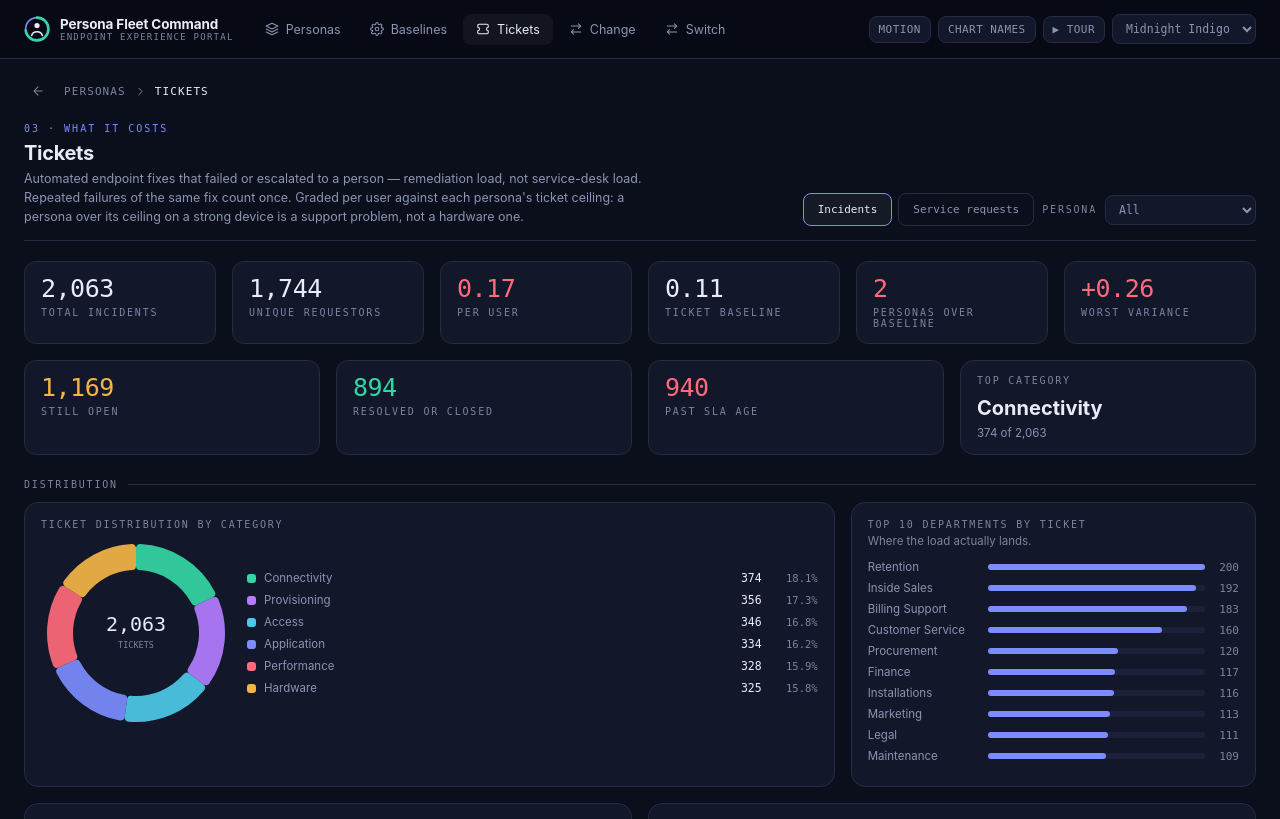
Test case: pages use live mock data › switches Tickets between incidents and requests
The image size is (1280, 819).
Expected: the text "2,063" is shown, [41,274,114,303]
Click the button "Service requests": coordinates (966, 210) [898,193,1034,226]
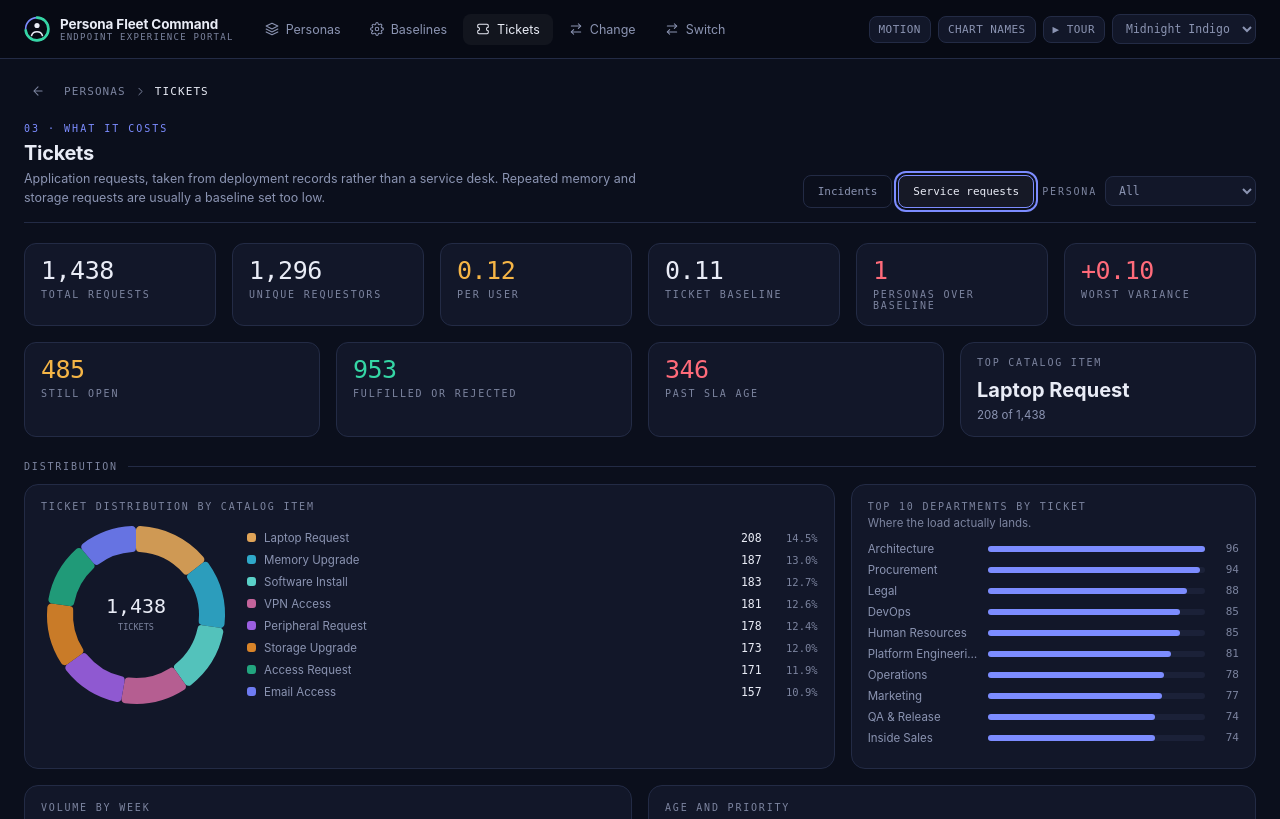
Result: the text "1,438" is shown at [41,256,114,284]
